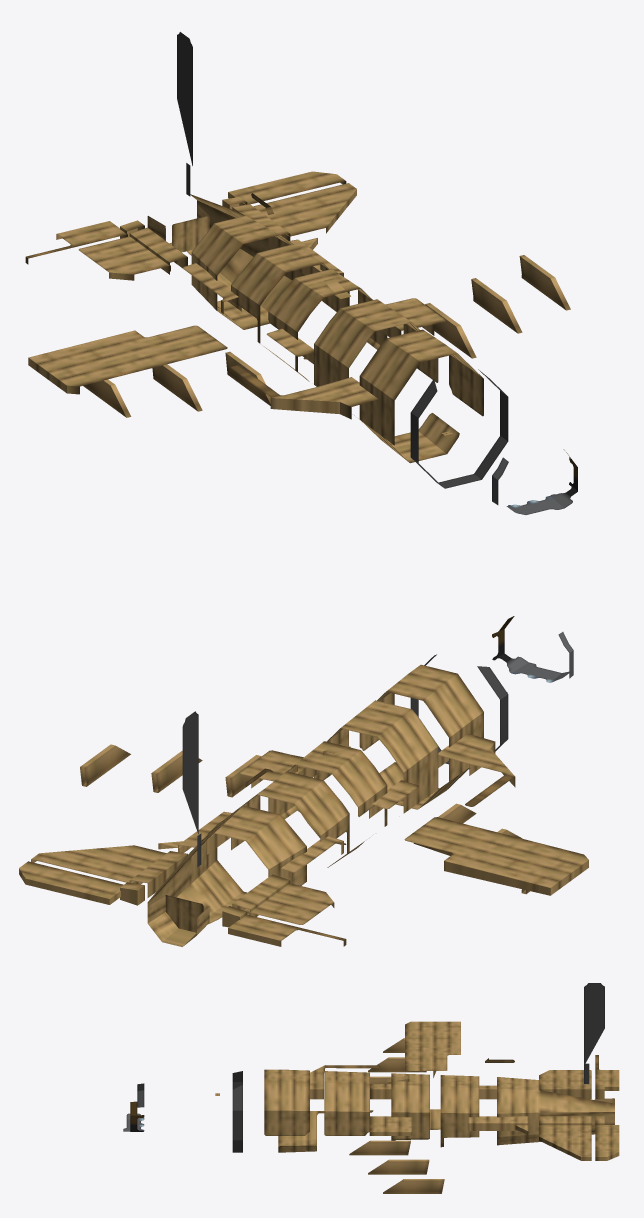
The model's file is alexis_plane.obj.
The picture shows the model from 3 angles, top to bottom: view 1: azimuth 30°, elevation 25°; view 2: azimuth 150°, elevation 25°; view 3: azimuth 270°, elevation 25°; orthographic projection. The views are drawn at different scales.
Parts seen in each view (by area): view 1: body, wing1, surface3, wing2, surface4, wing0, surface2, surface0; view 2: body, wing1, surface3, surface4, wing2, surface2, surface0, wing0; view 3: body, wing1, wing2, surface3, surface4, surface0, wing0, surface2.
Boxes of the visible parts, x1,y1,x2,y2 form: body: [120, 194, 577, 514]; wing1: [28, 333, 339, 417]; surface3: [228, 171, 356, 249]; wing2: [402, 255, 570, 358]; surface4: [25, 221, 170, 280]; wing0: [177, 32, 350, 298]; surface2: [89, 325, 206, 350]; surface0: [177, 45, 192, 160]; body: [120, 616, 573, 946]; wing1: [414, 748, 588, 895]; surface3: [19, 841, 188, 904]; surface4: [228, 883, 346, 946]; wing2: [80, 744, 282, 797]; surface2: [404, 832, 501, 881]; surface0: [182, 736, 198, 829]; wing0: [182, 711, 350, 867]; body: [123, 1069, 614, 1152]; wing1: [310, 1021, 460, 1084]; wing2: [349, 1128, 444, 1193]; surface3: [515, 1125, 619, 1160]; surface4: [539, 1055, 619, 1090]; surface0: [584, 993, 604, 1061]; wing0: [386, 983, 604, 1084]; surface2: [433, 1040, 460, 1077].
Bounding box in the file's own units: 12.12 × 6.45 × 18.3.
